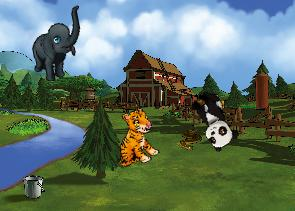elephant: (24, 5, 92, 84)
panda: (184, 86, 242, 153)
tiger: (103, 105, 165, 172)
